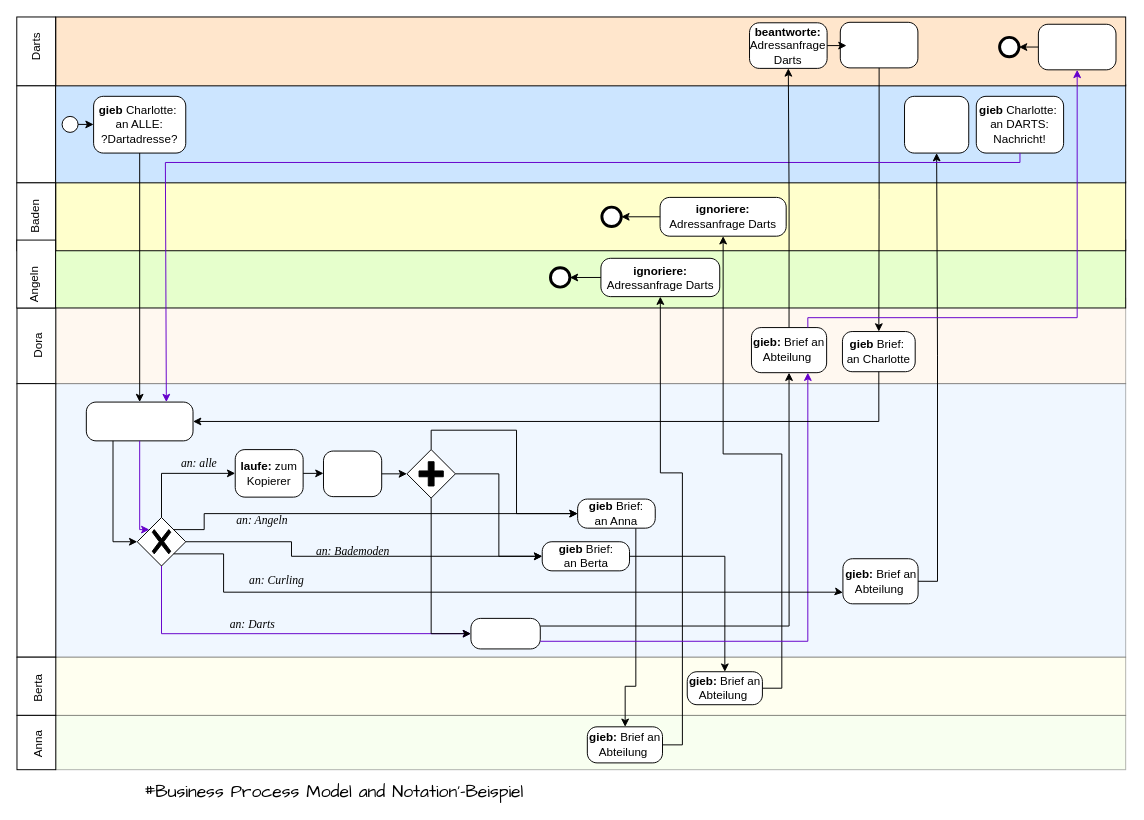
Some shapes in this 1144 by 820 pixel diagram are drawn without their labels. Each missing label, with the centre of its shape:
"Charlotte" goes at (36,520).
"Curling" goes at (36,134).
"evaluiere: Briefadresse" goes at (139,421).
"gieb Brief: an Dora" goes at (505,633).
"gieb Dora: an CURL: !Dartadresse!" goes at (878,44).
"kopiere: Brief 2*" goes at (352,473).
"lies : CURL Nachricht" goes at (1076,46).
"verwende : DARTS- Adresse" goes at (936,124).
